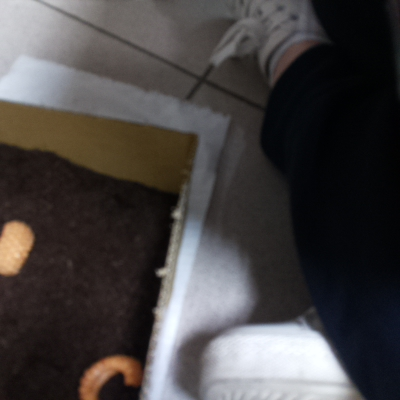eggs: (72, 344, 147, 400), (1, 215, 40, 287)
